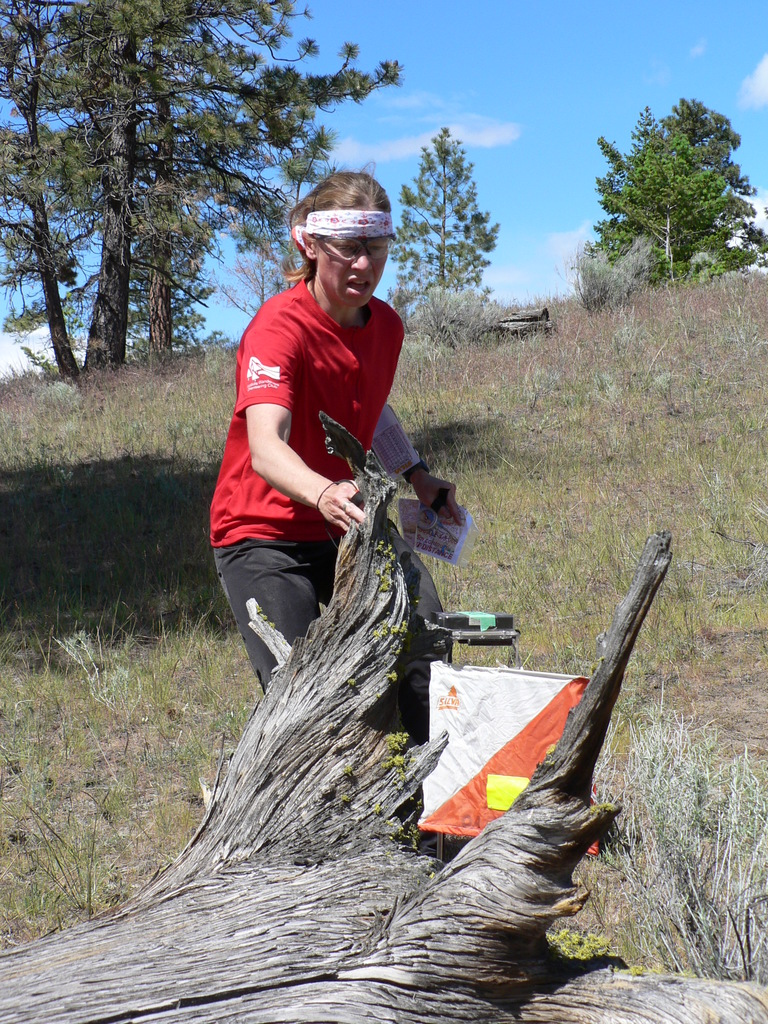Person: (208, 156, 465, 863)
